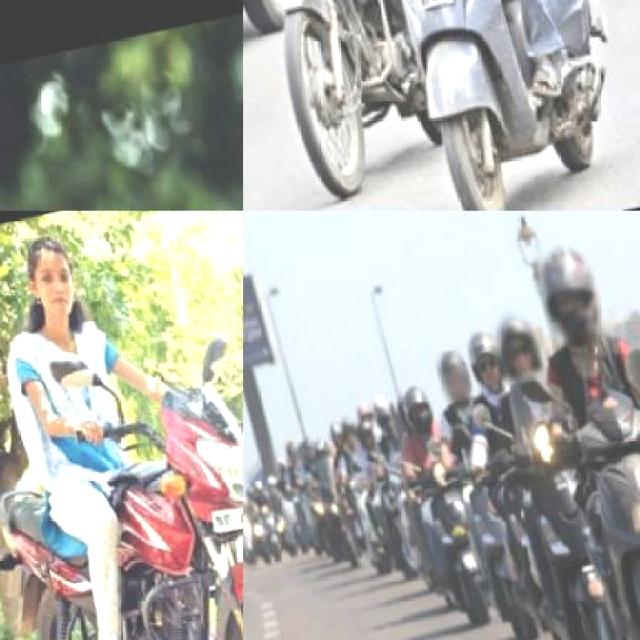With Helmet: (526, 226, 614, 348), (487, 300, 551, 386), (462, 322, 509, 395), (433, 343, 476, 403), (400, 379, 438, 433), (354, 410, 381, 452), (337, 409, 363, 448), (326, 415, 348, 451)
Without Helmet: (6, 226, 92, 329)
